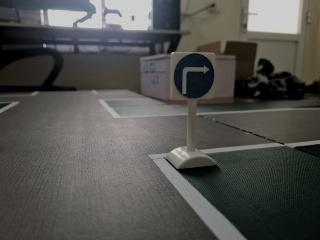right: (168, 45, 220, 106)
